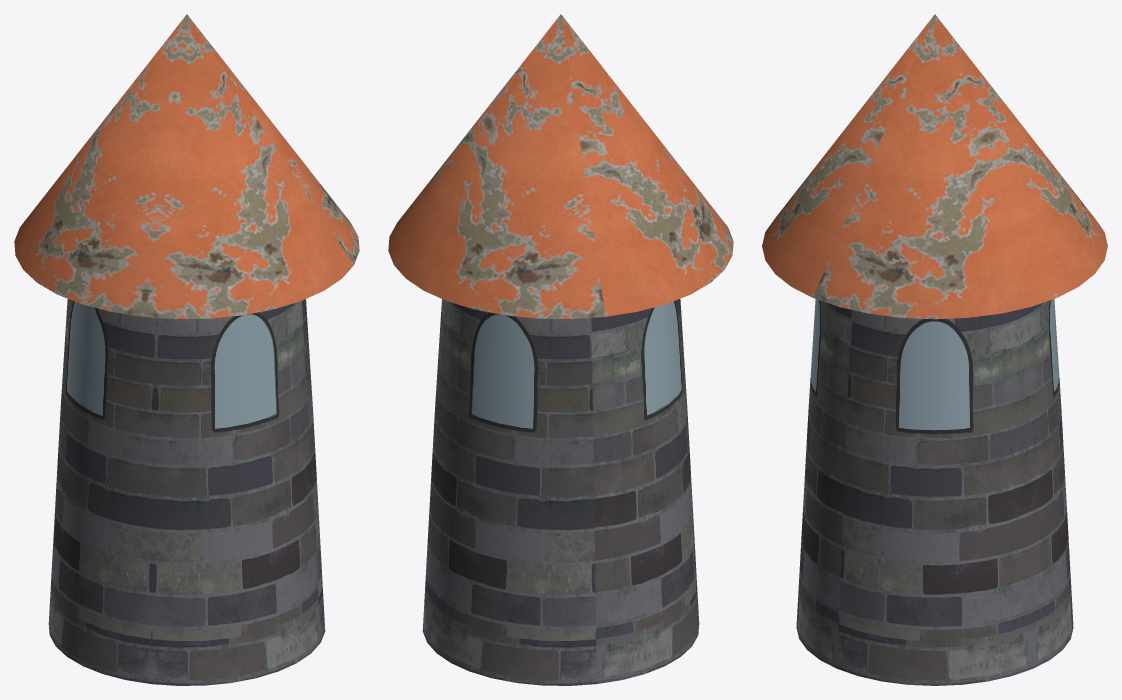
File: Torni.fbx
3 views of the same model, side by side, from view 1: azimuth 30°, elevation 25°; view 2: azimuth 150°, elevation 25°; view 3: azimuth 270°, elevation 25° (orthographic).
Visible parts, largest first — view 1: Cylinder, Cone; view 2: Cylinder, Cone; view 3: Cylinder, Cone.
Boxes of the visible parts, <box> form: Cylinder: <box>48,299,325,685</box>; Cone: <box>14,14,359,319</box>; Cylinder: <box>422,299,699,685</box>; Cone: <box>388,14,733,319</box>; Cylinder: <box>796,299,1073,685</box>; Cone: <box>762,14,1107,319</box>.
Size of the model in its own units: 300 by 588 by 300.
Materials: 2 (2 with a texture image).
